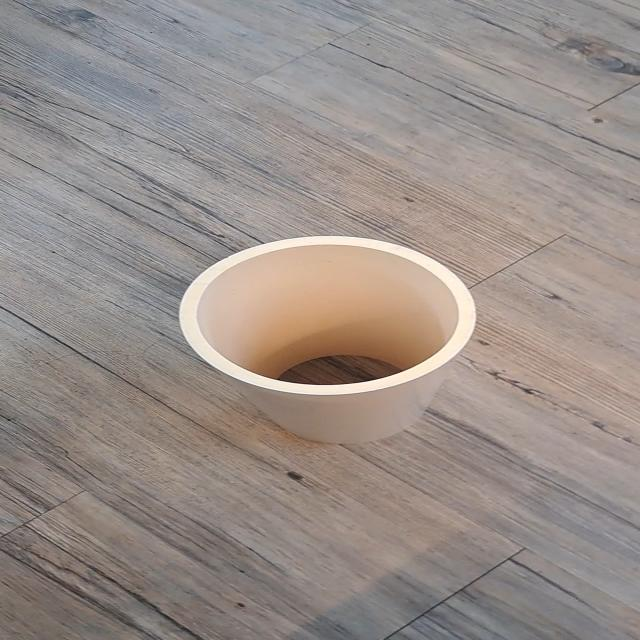CORAL: (146, 226, 516, 464)
